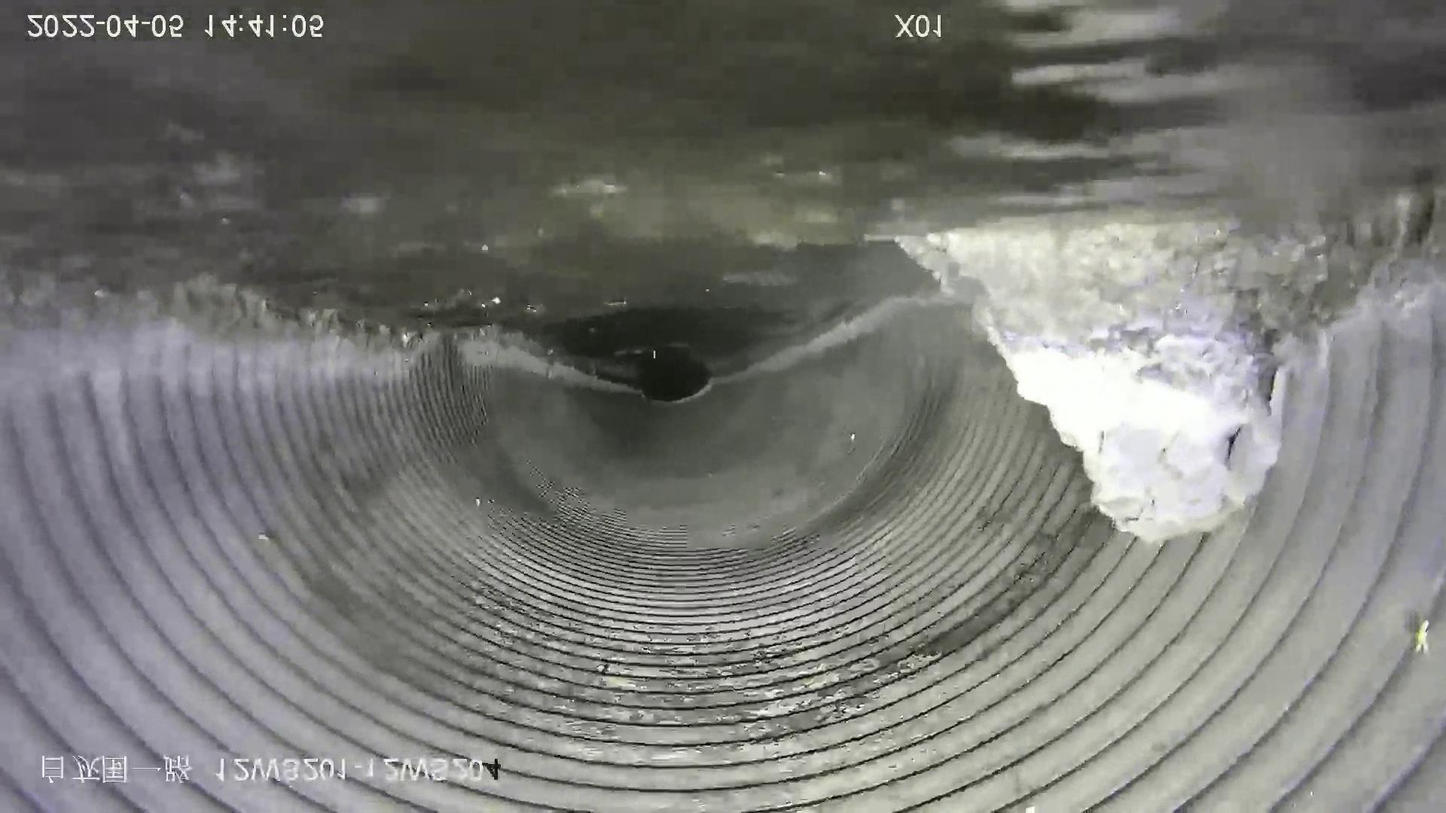ZAW: (900, 222, 1326, 542)
